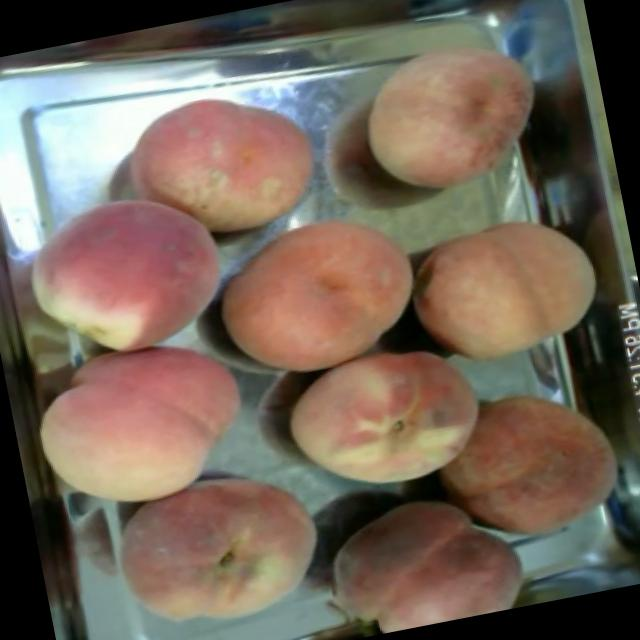Fruit: (14, 310, 272, 529), (1, 168, 248, 380), (91, 444, 346, 640), (194, 188, 436, 390), (412, 360, 640, 570), (263, 328, 510, 520), (110, 62, 342, 264), (339, 20, 562, 212), (396, 195, 618, 382), (304, 470, 538, 640)
